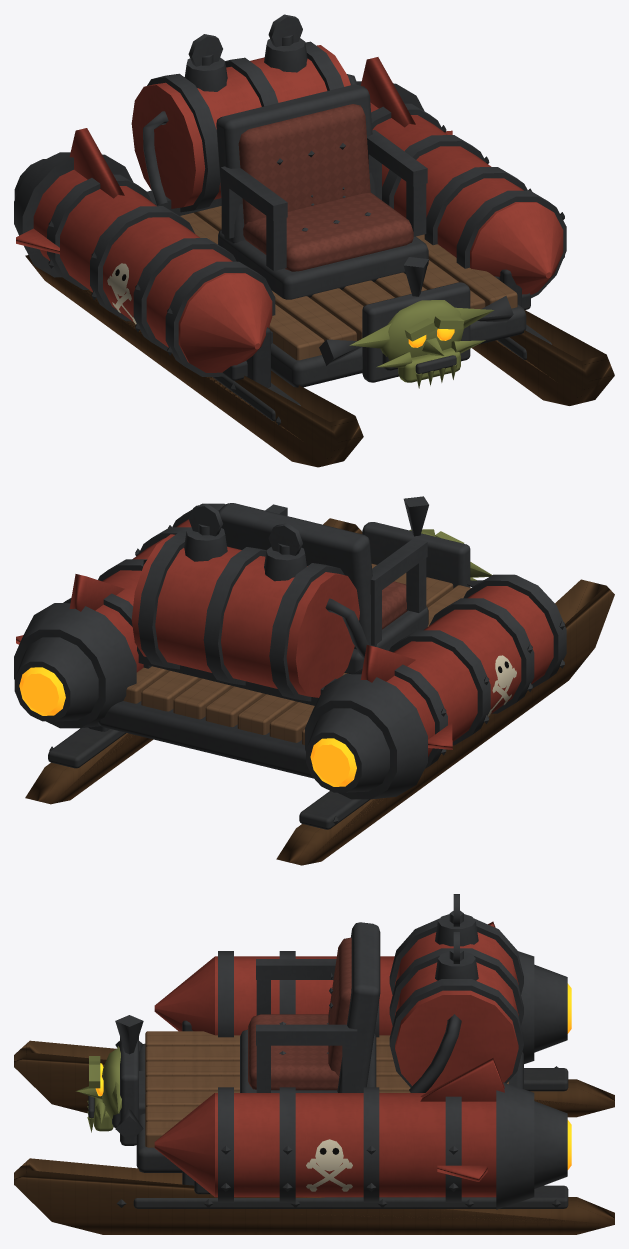
Rendered from goblin_rocket_sled.glb.
3 views of the same model, one above another, from view 1: azimuth 30°, elevation 25°; view 2: azimuth 150°, elevation 25°; view 3: azimuth 270°, elevation 25° (orthographic). The views are drawn at different scales.
Parts seen in each view (by area): view 1: RocketBody_L, Runner_L, SeatBackCushion, FuelTankBody, SeatCushion, RocketNose_L, Runner_R, RocketBody_R, RocketNose_R, SeatFrame, SeatBackFrame, DeckFrame (+37 smaller); view 2: FuelTankBody, RocketBody_L, Runner_L, NozzleCollar_L, DeckFrame, NozzleCollar_R, SeatBackFrame, NozzleThroat_R, NozzleThroat_L, Runner_R, ProwBackingPlate, FuelTankBand_-0.46 (+32 smaller); view 3: Runner_R, RocketBody_R, FuelTankBody, Runner_L, RunnerIronStrap_R, RocketBody_L, NozzleCollar_R, SeatCushion, SeatBackFrame, RocketNose_R, RocketNose_L, NozzleThroat_L (+37 smaller).
Part boxes in pixels (x1,y1,x2,y2): RocketBody_L: [33, 170, 261, 362]; Runner_L: [25, 255, 363, 467]; SeatBackCushion: [238, 104, 370, 224]; FuelTankBody: [131, 45, 350, 208]; SeatCushion: [243, 192, 413, 271]; RocketNose_L: [180, 274, 272, 372]; Runner_R: [472, 310, 614, 405]; RocketBody_R: [370, 102, 552, 268]; RocketNose_R: [471, 203, 563, 294]; SeatFrame: [218, 230, 428, 299]; SeatBackFrame: [216, 84, 376, 243]; DeckFrame: [271, 304, 526, 387]; FuelTankBody: [131, 534, 359, 697]; RocketBody_L: [386, 586, 553, 756]; Runner_L: [276, 579, 614, 865]; NozzleCollar_L: [305, 674, 427, 799]; DeckFrame: [98, 701, 313, 778]; NozzleCollar_R: [14, 603, 136, 728]; SeatBackFrame: [218, 503, 376, 649]; NozzleThroat_R: [14, 637, 98, 721]; NozzleThroat_L: [306, 708, 389, 792]; Runner_R: [25, 518, 362, 804]; ProwBackingPlate: [362, 522, 470, 588]; FuelTankBand_-0.46: [269, 563, 344, 701]; Runner_R: [14, 1158, 614, 1234]; RocketBody_R: [215, 1093, 496, 1197]; FuelTankBody: [395, 932, 518, 1092]; Runner_L: [14, 1040, 614, 1117]; RunnerIronStrap_R: [133, 1185, 568, 1208]; RocketBody_L: [215, 956, 394, 1035]; NozzleCollar_R: [496, 1082, 534, 1209]; SeatCushion: [248, 1014, 339, 1090]; SeatBackFrame: [337, 922, 380, 1092]; RocketNose_R: [154, 1093, 214, 1196]; RocketNose_L: [154, 956, 214, 1034]; NozzleThroat_L: [534, 964, 567, 1052].
Bounding box in the file's own units: 3.06 × 1.79 × 3.8.
Materials: 6 (4 with a texture image).
